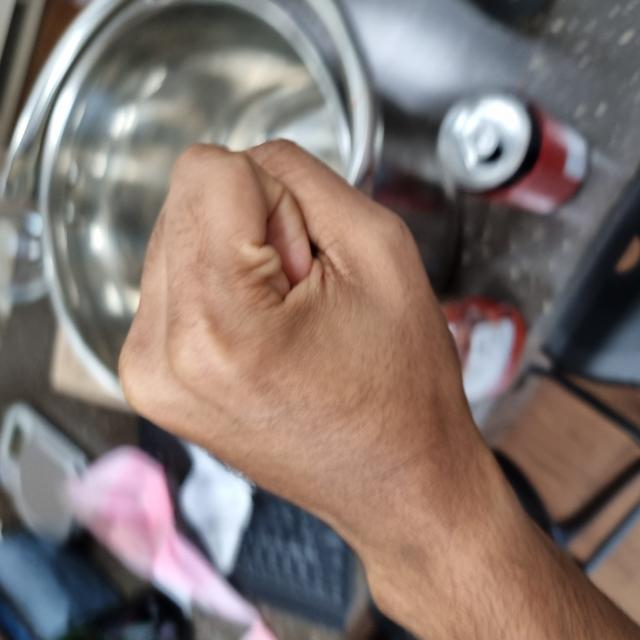Rock: (81, 117, 502, 476)
